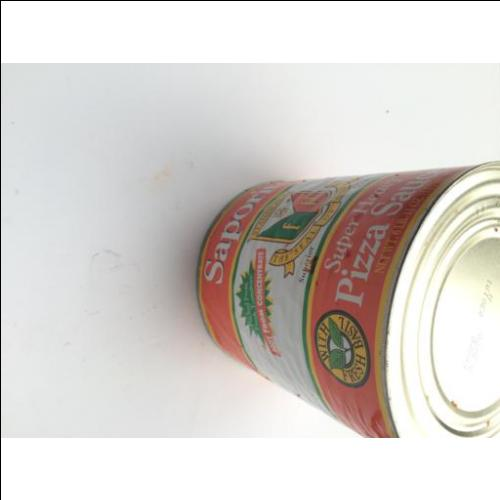metal: (195, 162, 499, 435)
